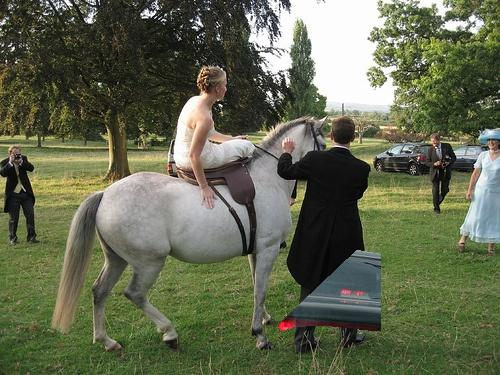tampered: (279, 251, 381, 331)
